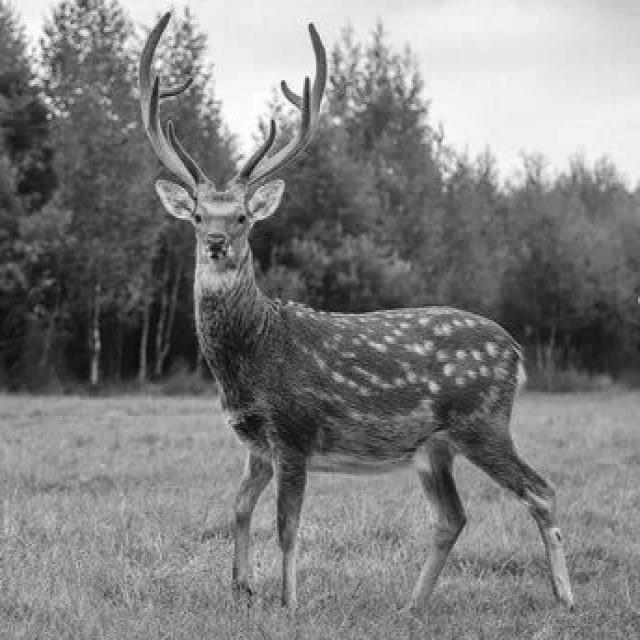Deer: (126, 81, 550, 585)
